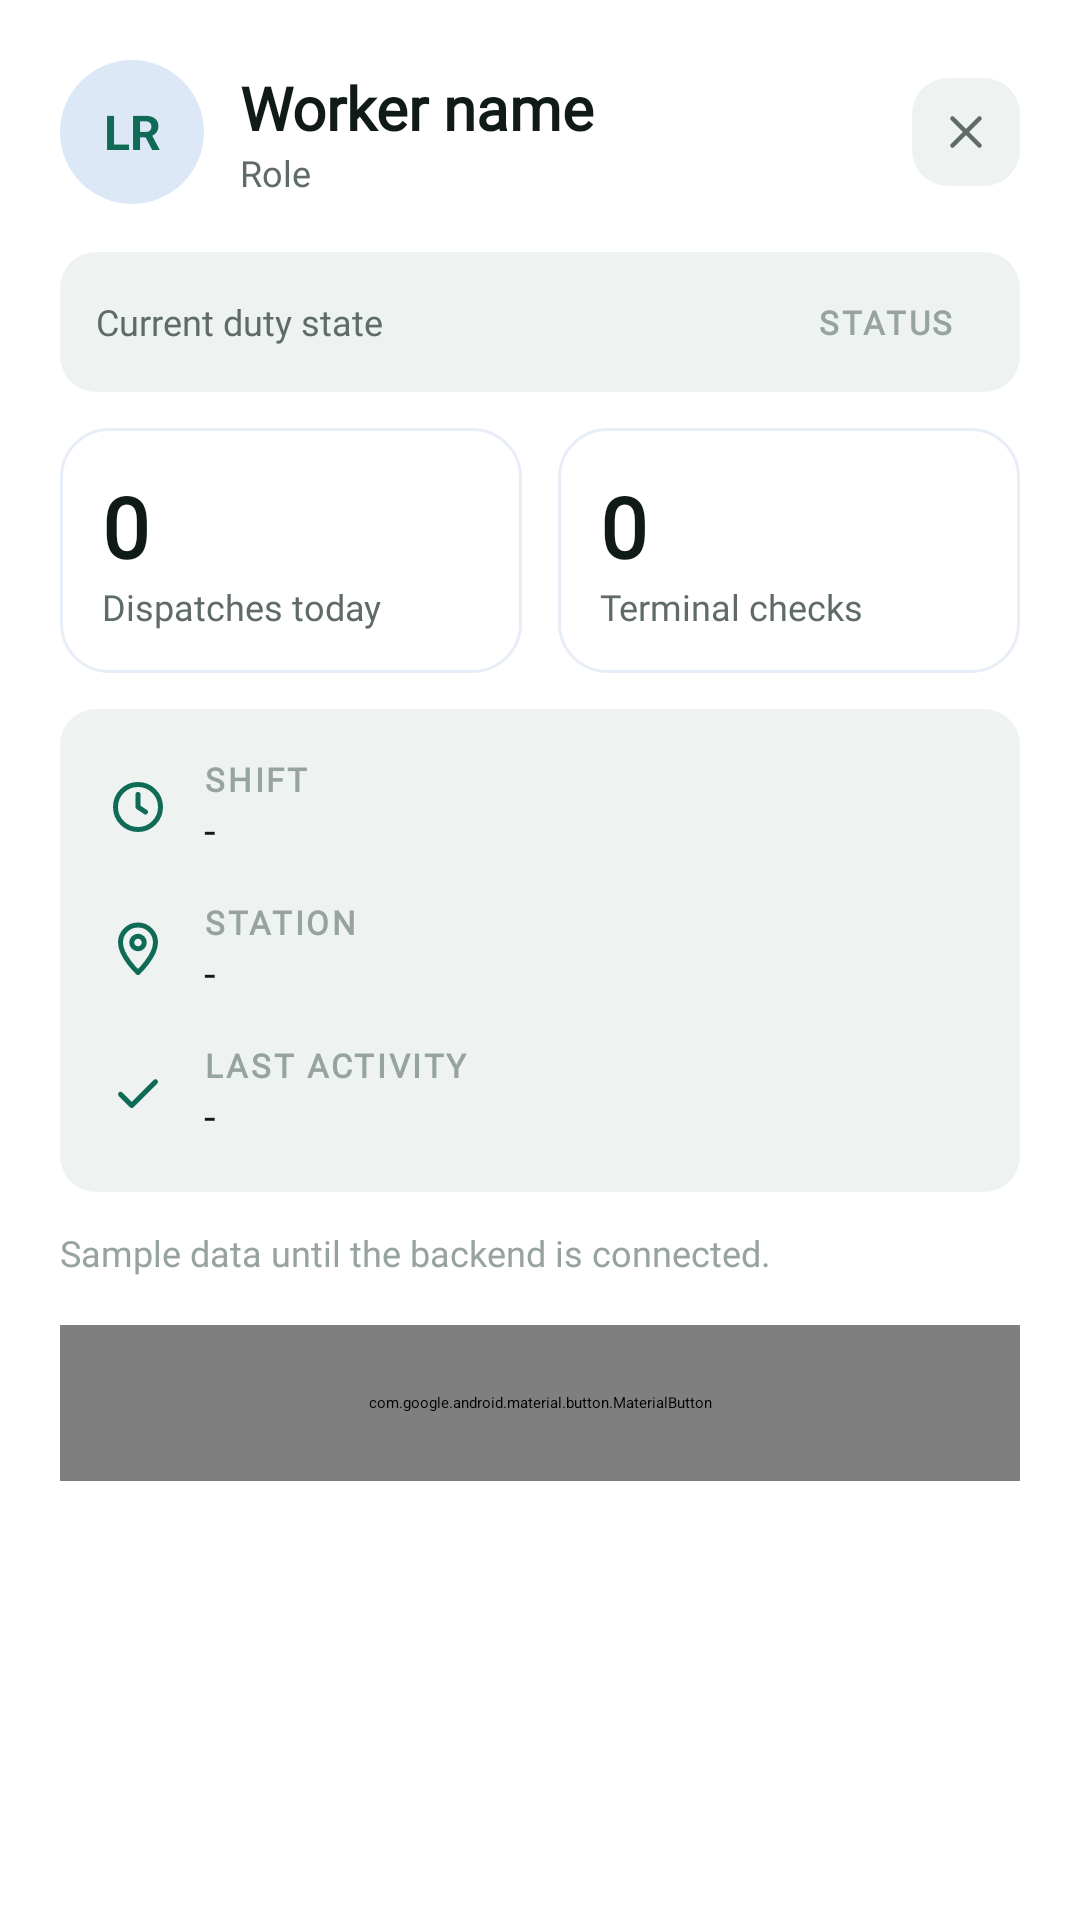

Point at icon controls on the screen. Image size 1080*1920, points as [x,y].
check: [138,1093]
clock: [138,807]
Close: [966,132]
pin: [138,948]
